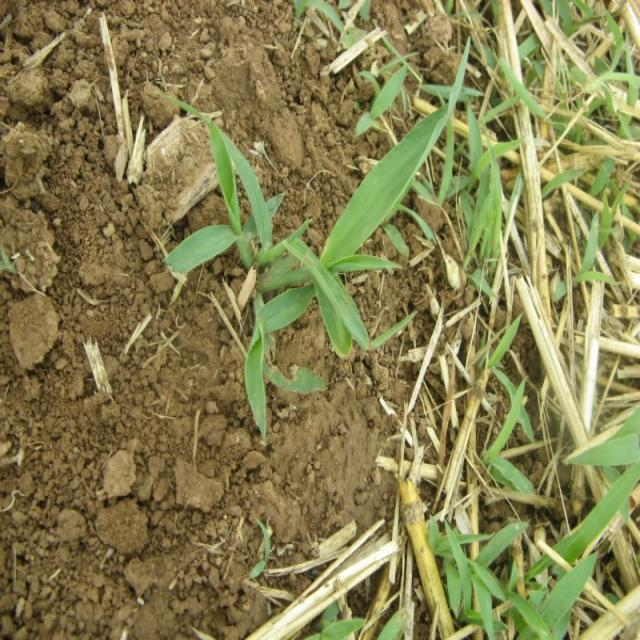bg: (172, 115, 449, 436)
